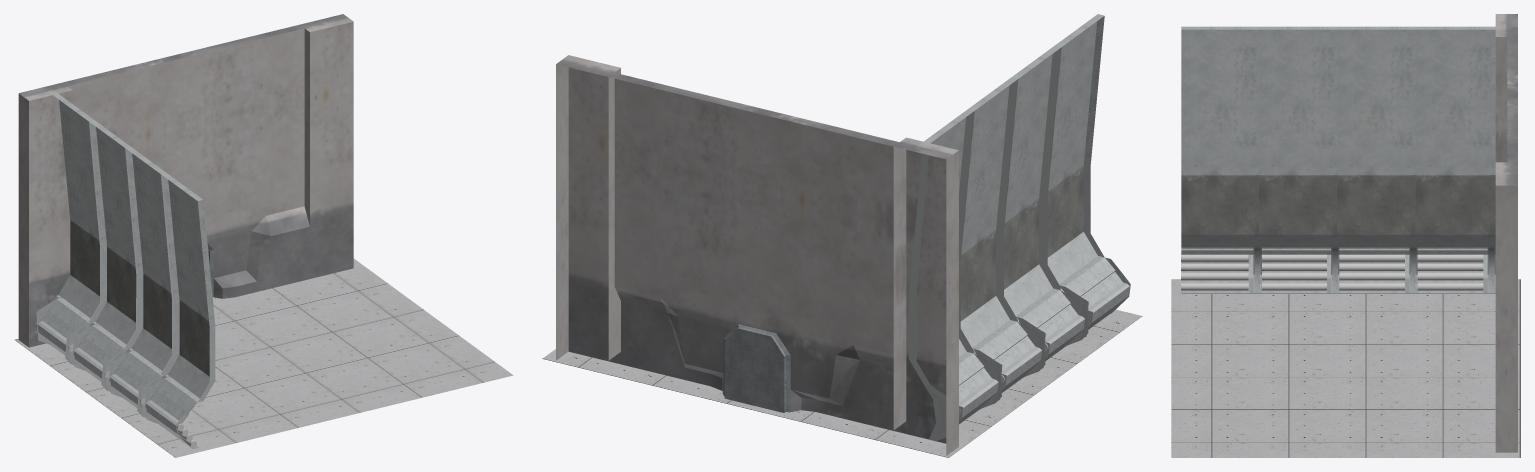
Rendered from warehouse.FBX.
3 views of the same model, side by side, from view 1: azimuth 30°, elevation 25°; view 2: azimuth 150°, elevation 25°; view 3: azimuth 270°, elevation 25° (orthographic). The views are drawn at different scales.
Visible parts, largest first — view 1: Box004, Object001; view 2: Box004, Object001, Object002; view 3: Box004, Object001, Object006, Object003, Object004, Object005.
Part boxes in pixels (bbox=[...]): Box004: bbox=[18, 14, 353, 448]; Object001: bbox=[15, 258, 513, 457]; Box004: bbox=[556, 14, 1130, 455]; Object001: bbox=[542, 309, 1142, 457]; Object002: bbox=[723, 324, 790, 412]; Box004: bbox=[1181, 14, 1517, 452]; Object001: bbox=[1171, 279, 1520, 457]; Object006: bbox=[1181, 254, 1248, 290]; Object003: bbox=[1415, 254, 1483, 290]; Object004: bbox=[1338, 254, 1404, 290]; Object005: bbox=[1260, 254, 1326, 290].
Size of the model in its own units: 1354 by 948 by 1118.
